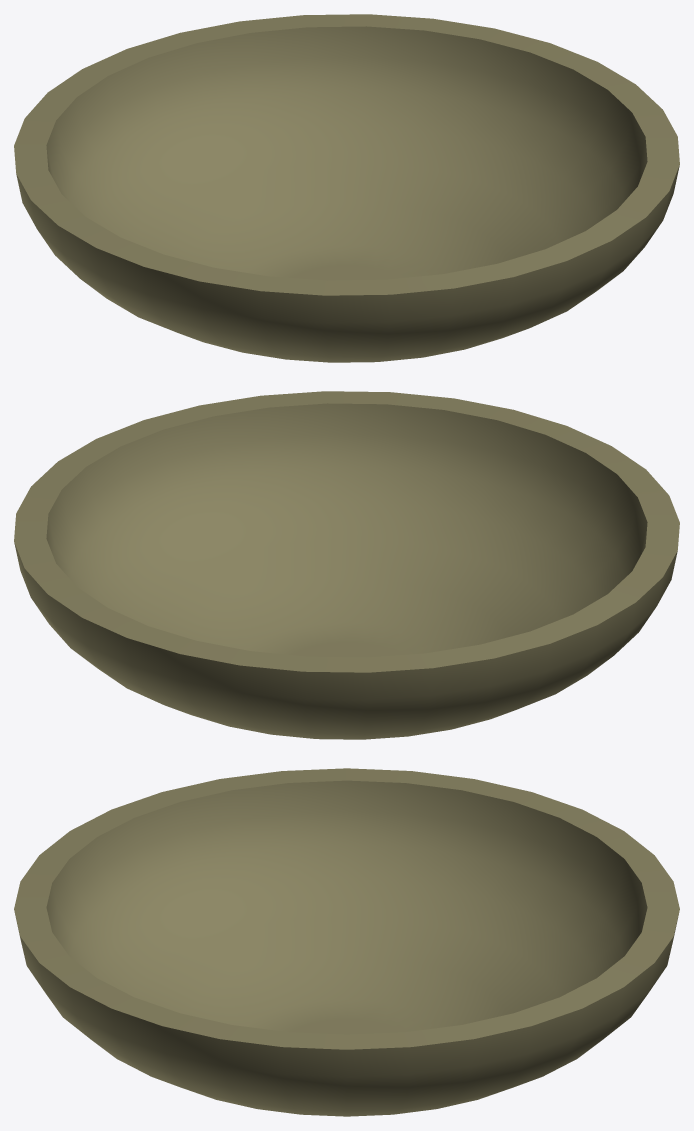
File: Vase_01.fbx
3 views of the same model, one above another, from view 1: azimuth 30°, elevation 25°; view 2: azimuth 150°, elevation 25°; view 3: azimuth 270°, elevation 25° (orthographic).
Visible parts, largest first — view 1: Sphere; view 2: Sphere; view 3: Sphere.
Part boxes in pixels (<box>): Sphere: <box>14,14,679,362</box>; Sphere: <box>14,391,679,739</box>; Sphere: <box>14,768,679,1116</box>.
Size of the model in its own units: 2 by 0.5112 by 2.
